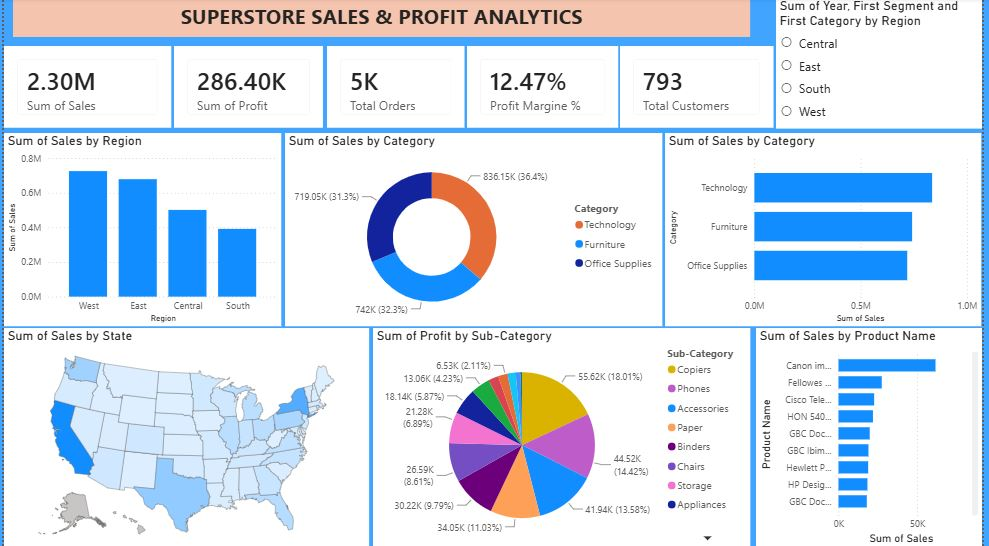

What the dashboard file says about the page in this screenshot:
{"tool":"powerbi","page":{"name":"Page 1","canvas":[1280,720],"ordinal":0},"visuals":[{"type":"cardVisual","fields":{"Data":["Sum(Superstore.Sales)"]},"box":[0,63.3,218.8,107.4],"z":0},{"type":"cardVisual","fields":{"Data":["Sum(Superstore.Profit)"]},"box":[223,63.3,195.4,107.4],"z":1},{"type":"cardVisual","fields":{"Data":["DateTable.Total Orders"]},"box":[422.5,63.3,180.3,107.4],"z":2},{"type":"cardVisual","fields":{"Data":["DateTable.Profit Margine %"]},"box":[605.6,63.3,198.2,107.4],"z":3},{"type":"cardVisual","fields":{"Data":["DateTable.Total Customers"]},"box":[806.5,63.3,200.9,107.4],"z":4},{"type":"shapeMap","fields":{"Category":["Superstore.State"],"Value":["Sum(Superstore.Sales)"]},"box":[0,432.2,477.6,287.7],"z":5},{"type":"donutChart","fields":{"Category":["Superstore.Category"],"Y":["Sum(Superstore.Sales)"]},"box":[367.5,176.2,494.1,253.2],"z":6},{"type":"pieChart","fields":{"Category":["Superstore.Sub-Category"],"Y":["Sum(Superstore.Profit)"]},"box":[483.1,432.2,494.1,287.7],"z":7},{"type":"clusteredColumnChart","fields":{"Category":["Superstore.Region"],"Y":["Sum(Superstore.Sales)"]},"box":[0,176.2,363.4,253.2],"z":8},{"type":"clusteredBarChart","fields":{"Category":["Superstore.Category"],"Y":["Sum(Superstore.Sales)"]},"box":[865.7,176.2,414.3,253.2],"z":9},{"type":"clusteredBarChart","fields":{"Category":["Superstore.Product Name"],"Y":["Sum(Superstore.Sales)"]},"box":[984.1,432.2,295.9,287.7],"z":10},{"type":"listSlicer","fields":{"Values":["Superstore.Region"]},"box":[1010.2,0,269.8,170.7],"z":11},{"type":"textbox","box":[11.8,0,965.4,51.4],"z":12}]}

Visuals, with their boxes in screenshot pixels (x1, y1, x2, y2), scaled from the page's 1280x720 canvas onto the 989x546 screenshot:
cardVisual - Sum(Superstore.Sales): [x1=0, y1=48, x2=169, y2=129]
cardVisual - Sum(Superstore.Profit): [x1=172, y1=48, x2=323, y2=129]
cardVisual - DateTable.Total Orders: [x1=326, y1=48, x2=466, y2=129]
cardVisual - DateTable.Profit Margine %: [x1=468, y1=48, x2=621, y2=129]
cardVisual - DateTable.Total Customers: [x1=623, y1=48, x2=778, y2=129]
shapeMap - Superstore.State x Sum(Superstore.Sales): [x1=0, y1=328, x2=369, y2=545]
donutChart - Superstore.Category x Sum(Superstore.Sales): [x1=284, y1=134, x2=666, y2=326]
pieChart - Superstore.Sub-Category x Sum(Superstore.Profit): [x1=373, y1=328, x2=755, y2=545]
clusteredColumnChart - Superstore.Region x Sum(Superstore.Sales): [x1=0, y1=134, x2=281, y2=326]
clusteredBarChart - Superstore.Category x Sum(Superstore.Sales): [x1=669, y1=134, x2=988, y2=326]
clusteredBarChart - Superstore.Product Name x Sum(Superstore.Sales): [x1=760, y1=328, x2=988, y2=545]
listSlicer - Superstore.Region: [x1=781, y1=0, x2=988, y2=129]
textbox: [x1=9, y1=0, x2=755, y2=39]
